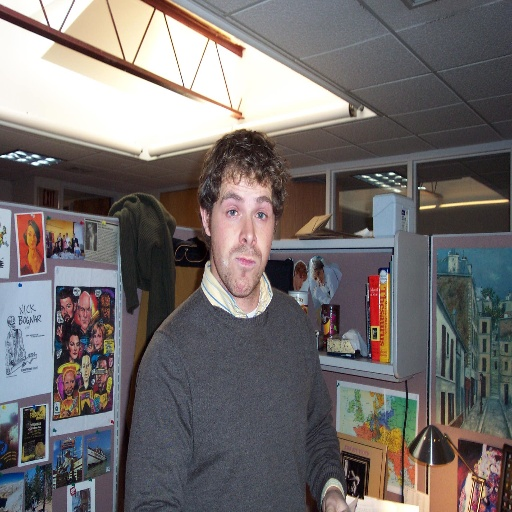hand: (320, 489, 348, 511)
